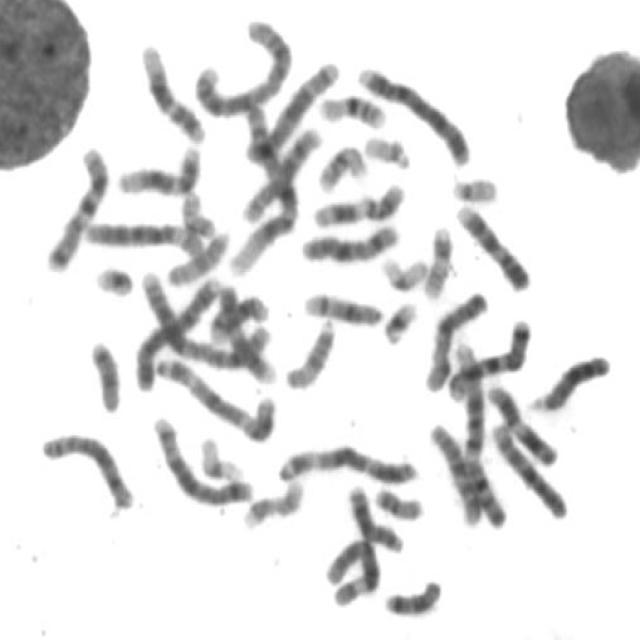A1: (221, 96, 307, 278), (446, 335, 488, 528)
A2: (134, 263, 280, 377), (187, 10, 297, 119)
A3: (151, 348, 279, 443), (272, 437, 422, 488)
B4: (352, 56, 474, 168), (130, 268, 222, 392)
B5: (240, 52, 343, 164), (147, 408, 257, 508)
C10: (424, 414, 511, 531), (425, 416, 488, 528)
C11: (482, 377, 560, 468), (306, 174, 408, 230)
C12: (135, 35, 210, 145), (112, 137, 205, 198)
C6: (79, 211, 209, 259), (319, 530, 385, 610)
C7: (40, 138, 113, 275), (441, 310, 536, 403)
C8: (34, 424, 138, 514), (238, 120, 324, 226)
C9: (450, 196, 534, 294), (210, 276, 279, 386)
D13: (524, 346, 615, 415), (343, 477, 408, 554)
D14: (299, 284, 386, 328), (205, 294, 273, 346)
D15: (279, 312, 340, 392), (161, 223, 234, 288)
E16: (313, 84, 390, 130), (313, 137, 371, 193)
E17: (238, 471, 306, 531), (419, 218, 455, 301)
E18: (84, 332, 124, 414), (380, 572, 446, 618)
F19: (194, 429, 246, 483), (376, 249, 431, 294)
F20: (176, 185, 220, 240), (370, 480, 426, 522)
G21: (377, 292, 421, 346), (89, 258, 137, 300)
G22: (360, 126, 415, 172), (446, 168, 502, 204)
X: (418, 284, 492, 394), (294, 215, 404, 266)
